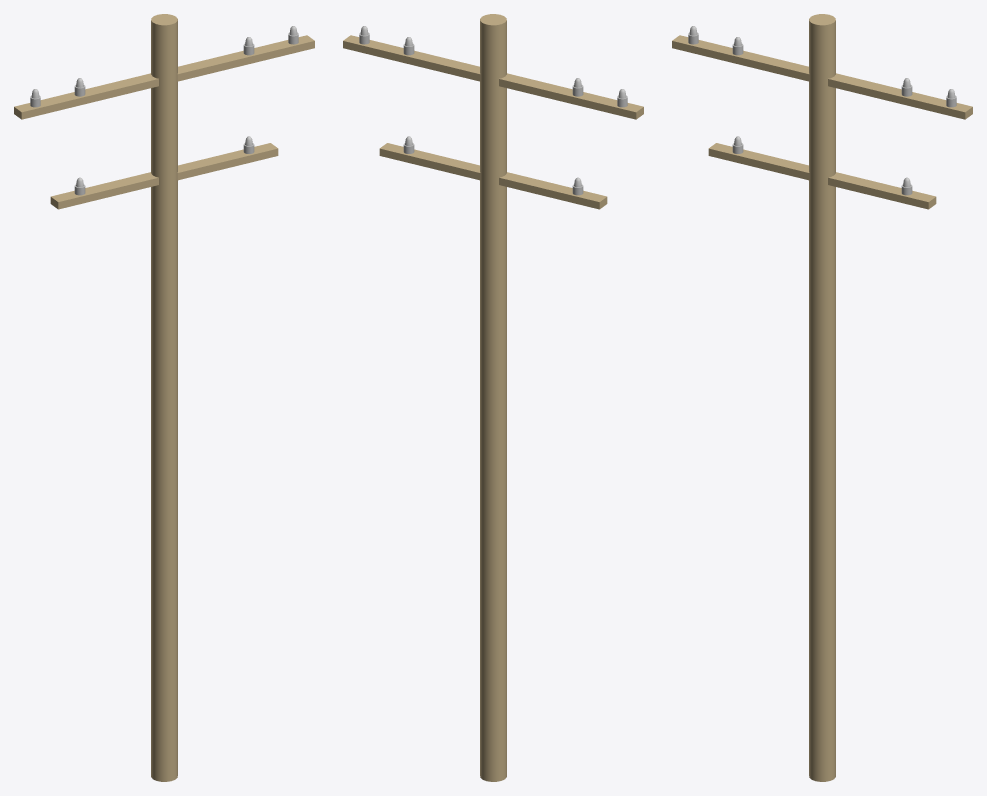
File: Pylon.fbx
3 views of the same model, side by side, from view 1: azimuth 30°, elevation 25°; view 2: azimuth 150°, elevation 25°; view 3: azimuth 330°, elevation 25° (orthographic).
Visible parts, largest first — view 1: Pylon; view 2: Pylon; view 3: Pylon.
Part boxes in pixels (<box>): Pylon: <box>14,14,314,781</box>; Pylon: <box>343,14,643,781</box>; Pylon: <box>672,14,972,781</box>.
Bounding box in the file's own units: 279 × 687 × 22.22.
